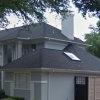Chimney: (54, 6, 84, 50)
